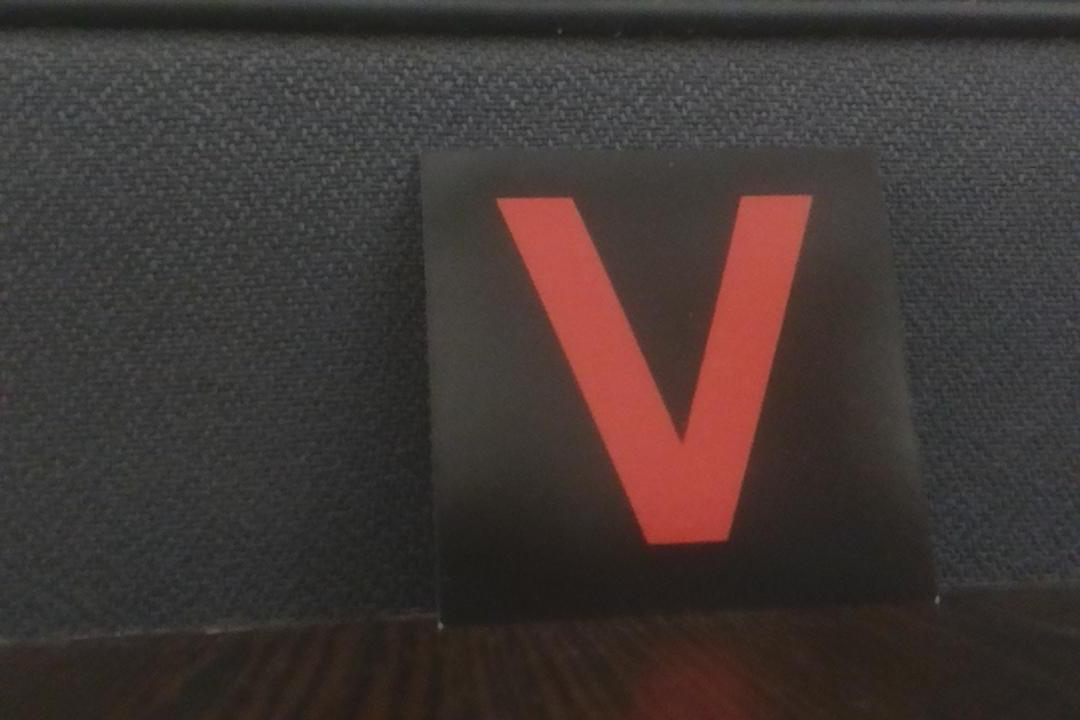alphabet_v: (414, 144, 937, 606)
